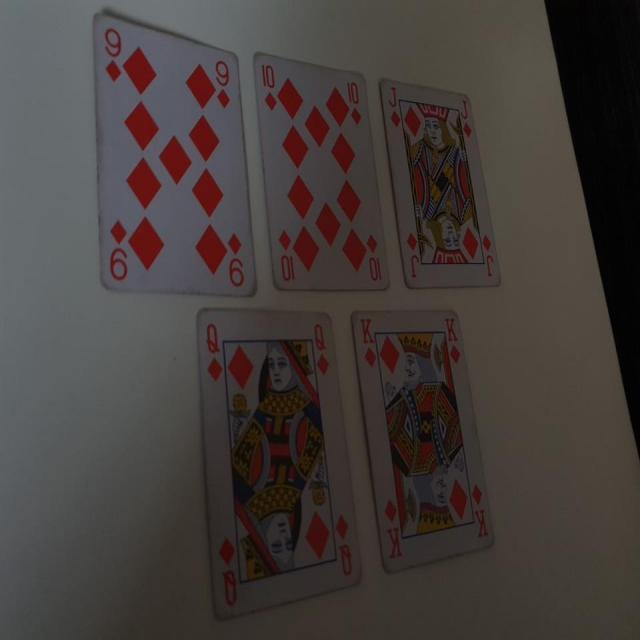10 of diamonds: (253, 48, 392, 293)
9 of diamonds: (90, 11, 258, 298)
jack of diamonds: (377, 77, 505, 290)
king of diamonds: (352, 306, 498, 578)
queen of diamonds: (197, 308, 365, 618)
